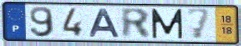4: (62, 7, 85, 38)
7: (186, 7, 212, 41)
9: (28, 6, 56, 39)
A: (89, 8, 122, 39)
M: (150, 8, 185, 40)
R: (119, 7, 152, 40)
